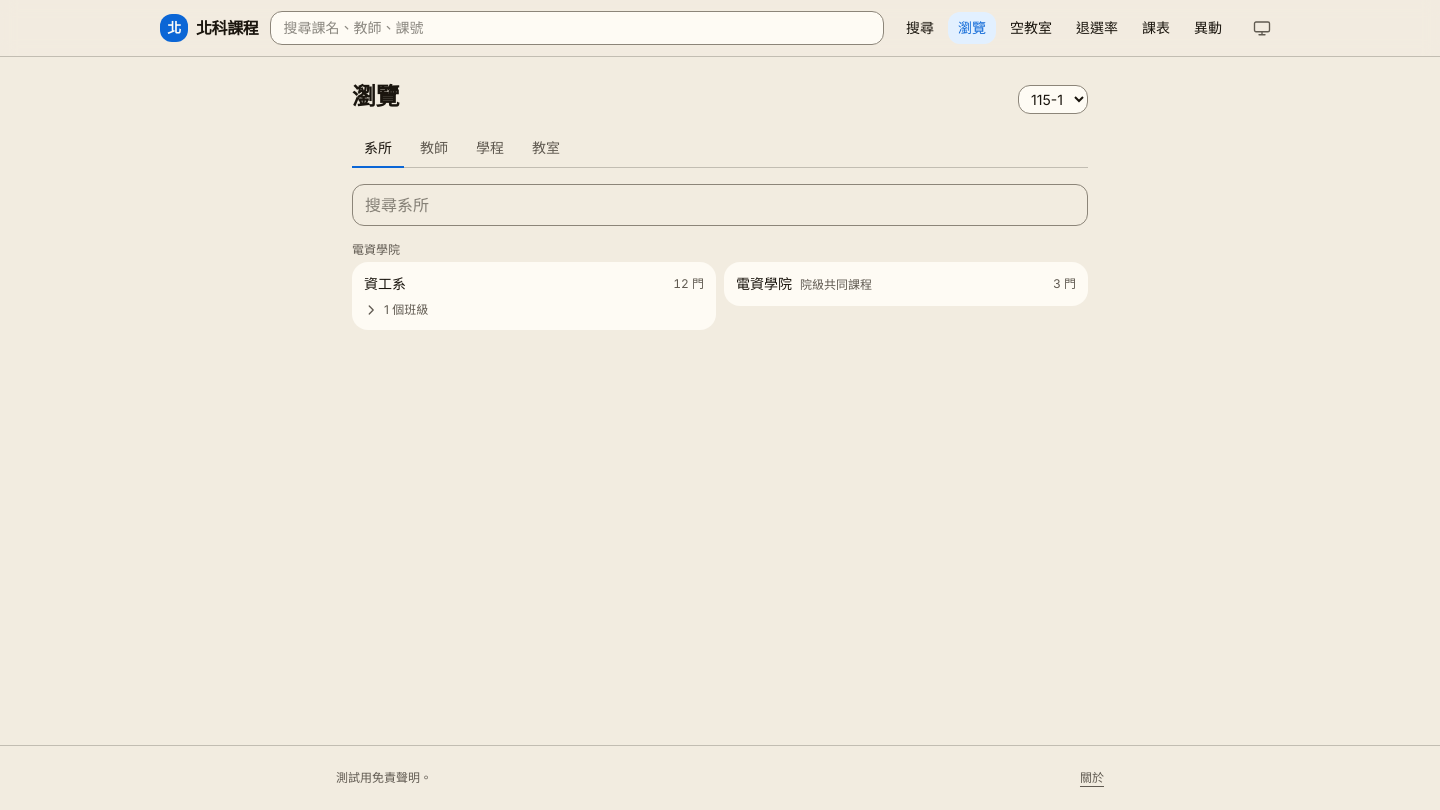
Test case: /browse › 教師分頁:標出所屬系所,查不到的系所代碼照原樣顯示
expect the link "資工系" is shown: met, box top-left (364, 275), bottom-right (406, 292)
Click the tab "教師".
click(434, 149)  # box top-left (408, 130), bottom-right (460, 168)
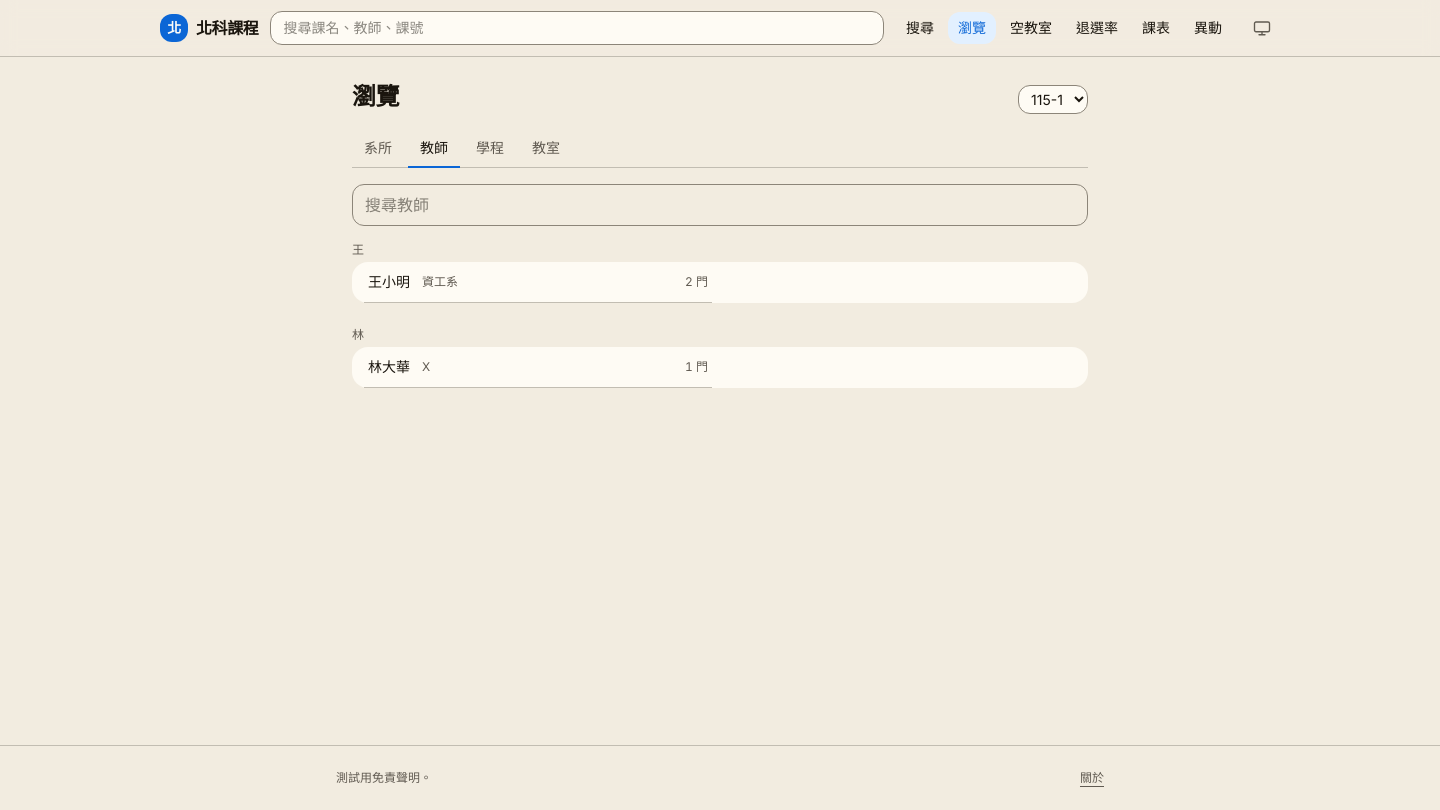
expect the link "王小明 資工系 2 門" is shown: met, box top-left (364, 262), bottom-right (712, 303)
expect the link "林大華 X 1 門" is shown: met, box top-left (364, 347), bottom-right (712, 388)
